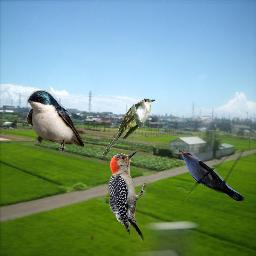Cuckoo: (177, 149, 244, 201), (101, 98, 155, 158)
Swallow: (27, 90, 85, 152)
Woodpecker: (105, 147, 147, 247)
